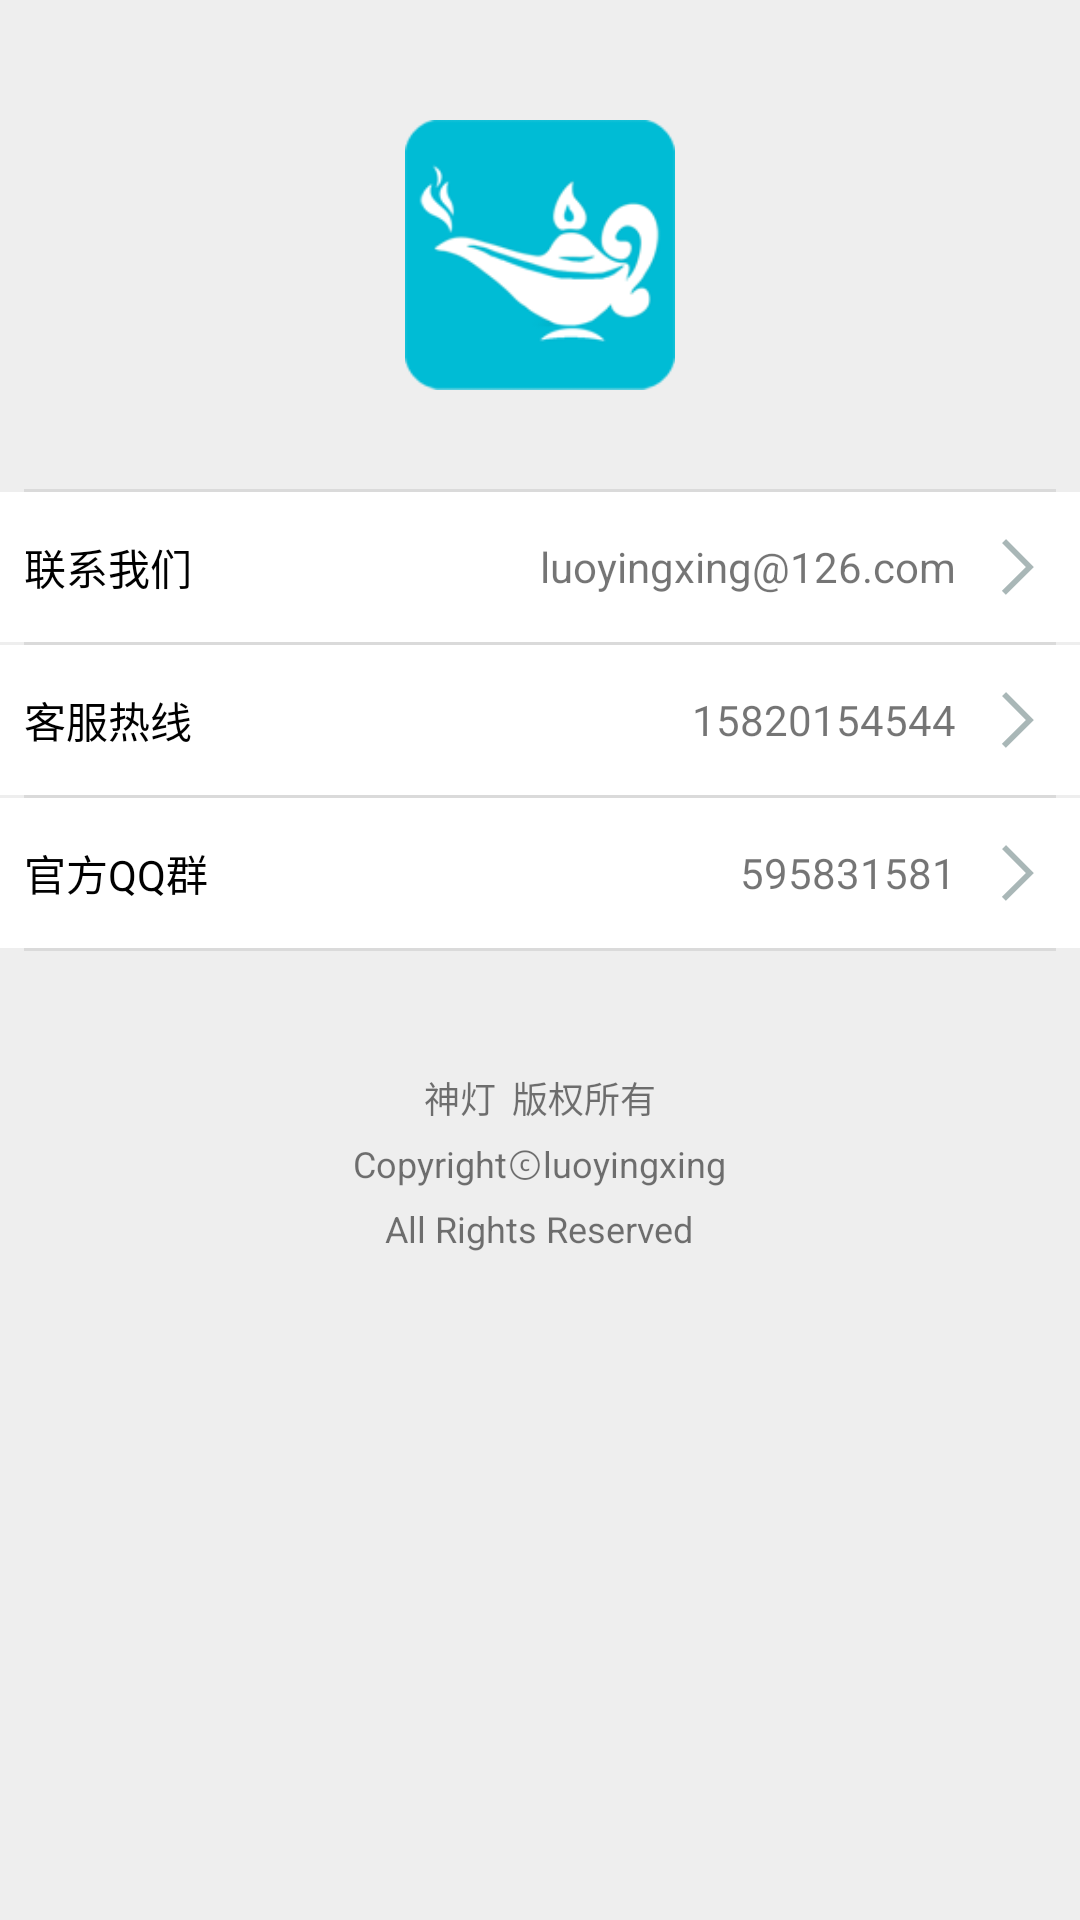

Screen size 1080w x 1920h. Icon name, then its center in pixels as point (x, y):
personal list right: point (1018, 567), point (1018, 720), point (1018, 873)
